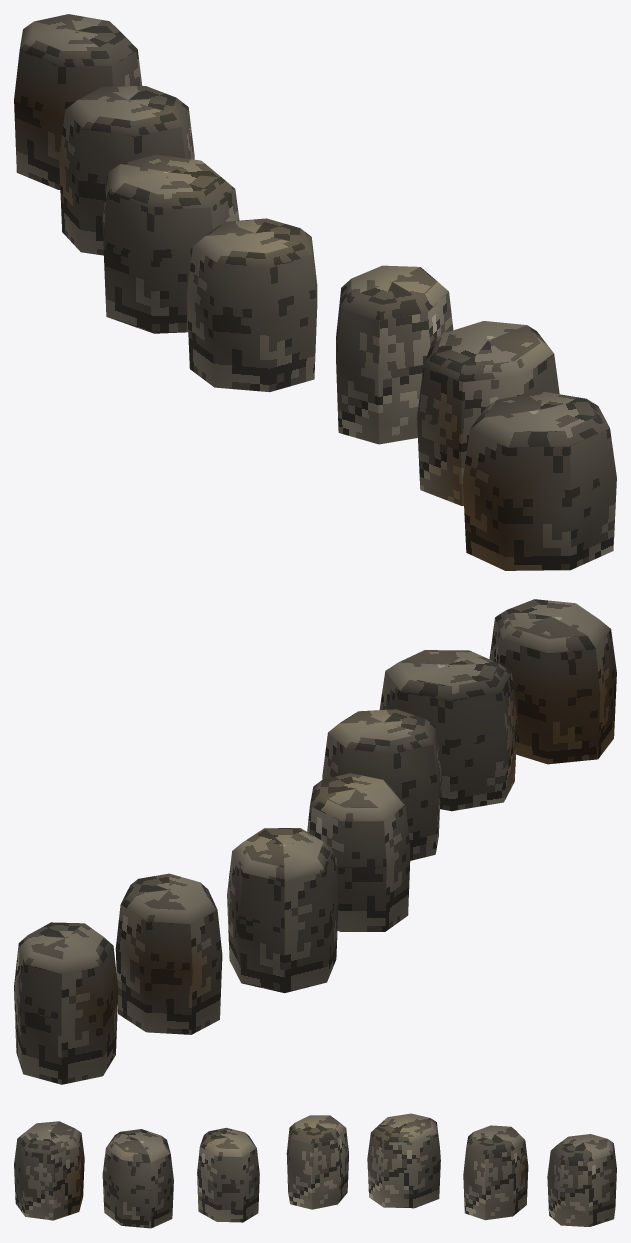
File: lake.bridge.glb
3 renders of one model, top to bottom at view 1: azimuth 30°, elevation 25°; view 2: azimuth 150°, elevation 25°; view 3: azimuth 270°, elevation 25°, orthographic. The views are drawn at different scales.
Visible parts, largest first — view 1: kit_stones; view 2: kit_stones; view 3: kit_stones.
Boxes of the visible parts, box(x1,y1,x2,y2) form: kit_stones: box(14, 14, 616, 570); kit_stones: box(14, 599, 616, 1084); kit_stones: box(14, 1113, 616, 1228).
Bounding box in the file's own units: 1.5 × 1.02 × 7.75.
Materials: 1 (1 with a texture image).
